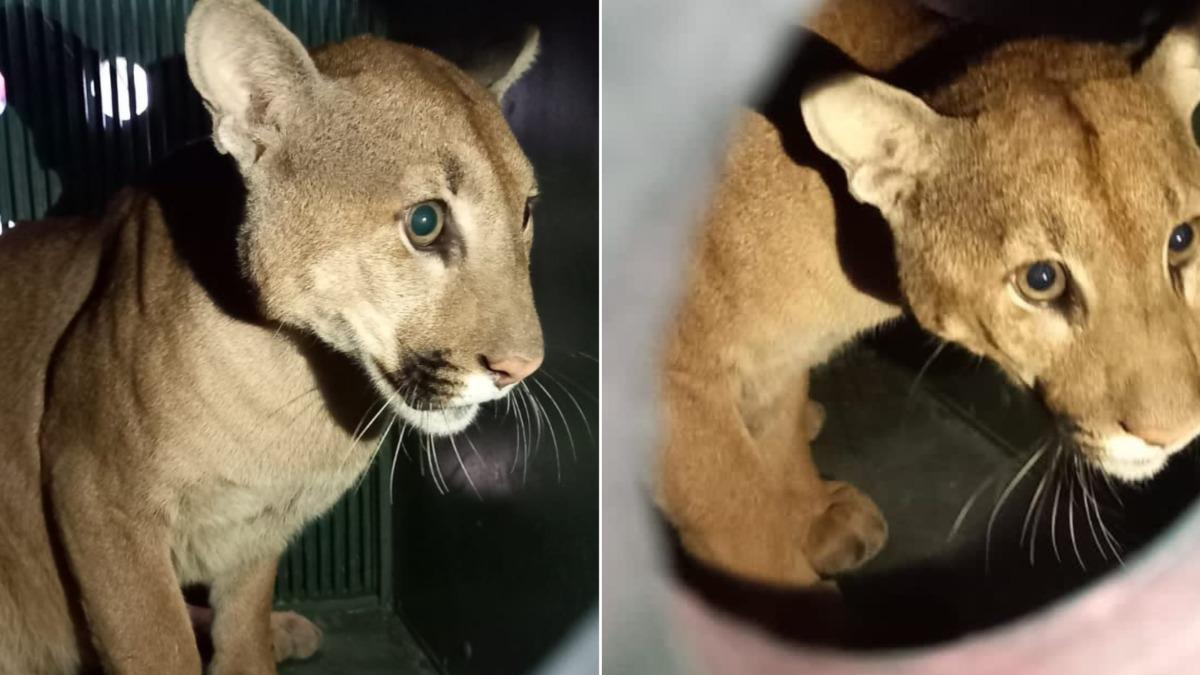OncaParda: (18, 5, 550, 657), (682, 7, 1189, 589)
